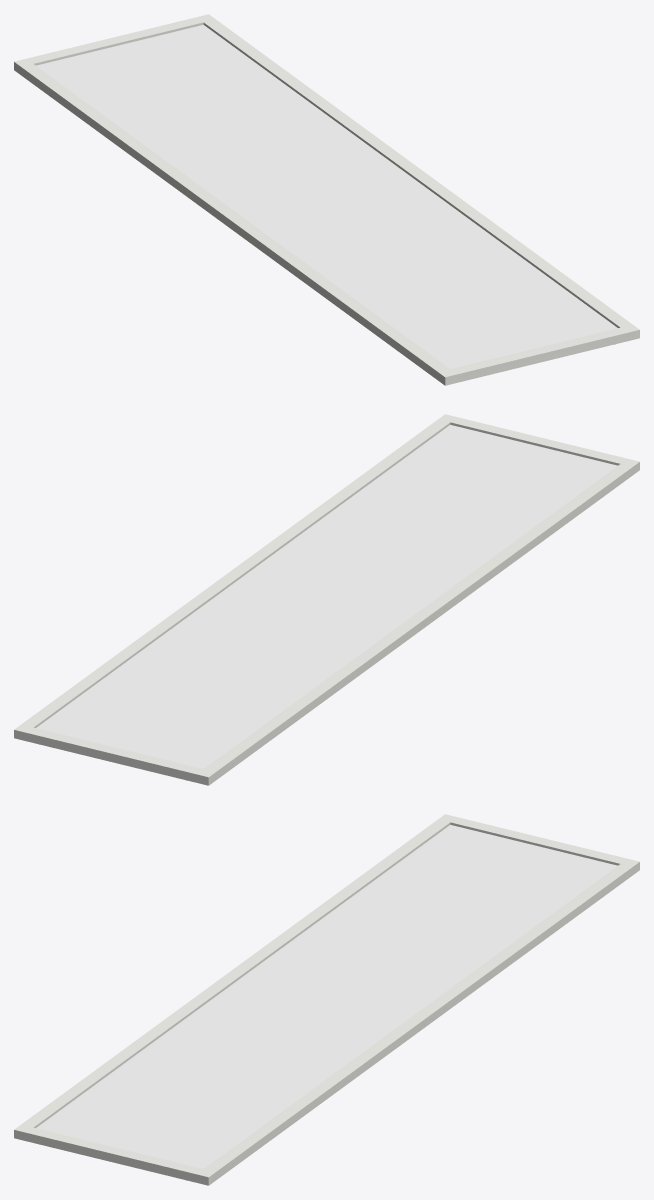
File: 01 - LILJETRÄD Mirror - white 30x115 cm.glb
The picture shows the model from 3 angles, top to bottom: view 1: azimuth 30°, elevation 25°; view 2: azimuth 150°, elevation 25°; view 3: azimuth 330°, elevation 25°; orthographic projection.
Parts seen in each view (by area): view 1: 20592100-LILJETRÃƒâ€žD001; view 2: 20592100-LILJETRÃƒâ€žD001; view 3: 20592100-LILJETRÃƒâ€žD001.
Boxes of the visible parts, x1=… form: 20592100-LILJETRÃƒâ€žD001: x1=14, y1=14, x2=639, y2=385; 20592100-LILJETRÃƒâ€žD001: x1=14, y1=414, x2=639, y2=785; 20592100-LILJETRÃƒâ€žD001: x1=14, y1=814, x2=639, y2=1185.
Size of the model in its own units: 0.3 by 0.0145 by 1.15.
Materials: 2 (2 with a texture image).
